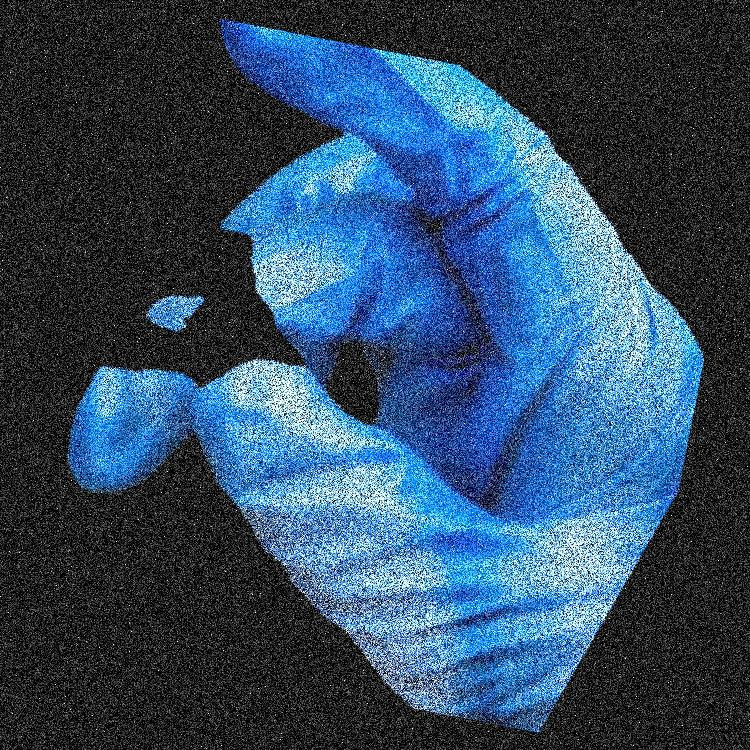Pessoa: (235, 0, 749, 749)
